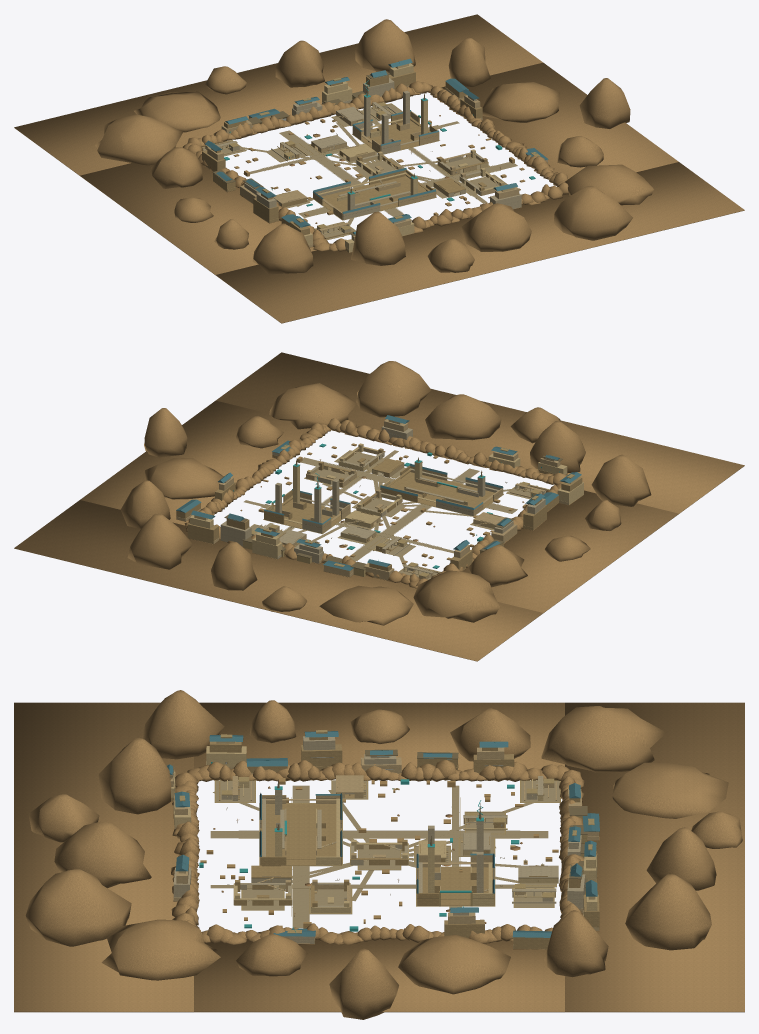
Rendered from sakyuu-lod1.glb.
3 views of the same model, one above another, from view 1: azimuth 30°, elevation 25°; view 2: azimuth 150°, elevation 25°; view 3: azimuth 270°, elevation 25° (orthographic). The views are drawn at different scales.
Visible parts, largest first — view 1: HB_sakyuu_LOD1_terrain, HB_sakyuu_LOD1_road, HB_sakyuu_LOD1_wall_weathered, HB_sakyuu_LOD1_wall_cool, HB_sakyuu_LOD1_wall_warm, HB_sakyuu_LOD1_wall, HB_sakyuu_LOD1_roof, HB_sakyuu_LOD1_LANDMARK_0_wall_weathered, HB_sakyuu_LOD1_wall_alt, HB_sakyuu_LOD1_LANDMARK_1_wall_cool, HB_sakyuu_LOD1_LANDMARK_1_wall_weathered, HB_sakyuu_LOD1_LANDMARK_0_wall_cool (+3 smaller); view 2: HB_sakyuu_LOD1_terrain, HB_sakyuu_LOD1_road, HB_sakyuu_LOD1_wall, HB_sakyuu_LOD1_wall_weathered, HB_sakyuu_LOD1_wall_warm, HB_sakyuu_LOD1_wall_cool, HB_sakyuu_LOD1_wall_alt, HB_sakyuu_LOD1_roof, HB_sakyuu_LOD1_LANDMARK_0_wall_weathered, HB_sakyuu_LOD1_LANDMARK_1_wall_cool, HB_sakyuu_LOD1_LANDMARK_1_wall_weathered, HB_sakyuu_LOD1_LANDMARK_0_wall_cool (+2 smaller); view 3: HB_sakyuu_LOD1_terrain, HB_sakyuu_LOD1_road, HB_sakyuu_LOD1_wall_weathered, HB_sakyuu_LOD1_wall_cool, HB_sakyuu_LOD1_LANDMARK_0_wall_weathered, HB_sakyuu_LOD1_wall, HB_sakyuu_LOD1_roof, HB_sakyuu_LOD1_wall_warm, HB_sakyuu_LOD1_wall_alt, HB_sakyuu_LOD1_LANDMARK_1_wall_weathered, HB_sakyuu_LOD1_obstacle, HB_sakyuu_LOD1_trim (+4 smaller).
Boxes of the visible parts, left/top/right/bottom form: HB_sakyuu_LOD1_terrain: left=14, top=14, right=744, bottom=323; HB_sakyuu_LOD1_road: left=202, top=104, right=517, bottom=239; HB_sakyuu_LOD1_wall_weathered: left=202, top=71, right=547, bottom=252; HB_sakyuu_LOD1_wall_cool: left=217, top=78, right=547, bottom=233; HB_sakyuu_LOD1_wall_warm: left=202, top=85, right=519, bottom=247; HB_sakyuu_LOD1_wall: left=221, top=63, right=514, bottom=252; HB_sakyuu_LOD1_roof: left=205, top=58, right=548, bottom=234; HB_sakyuu_LOD1_LANDMARK_0_wall_weathered: left=321, top=170, right=436, bottom=212; HB_sakyuu_LOD1_wall_alt: left=202, top=78, right=539, bottom=240; HB_sakyuu_LOD1_LANDMARK_1_wall_cool: left=355, top=90, right=418, bottom=154; HB_sakyuu_LOD1_LANDMARK_1_wall_weathered: left=362, top=111, right=439, bottom=149; HB_sakyuu_LOD1_LANDMARK_0_wall_cool: left=315, top=180, right=410, bottom=219; HB_sakyuu_LOD1_terrain: left=14, top=352, right=744, bottom=661; HB_sakyuu_LOD1_road: left=244, top=450, right=547, bottom=579; HB_sakyuu_LOD1_wall: left=189, top=420, right=583, bottom=574; HB_sakyuu_LOD1_wall_weathered: left=176, top=448, right=582, bottom=573; HB_sakyuu_LOD1_wall_warm: left=176, top=419, right=568, bottom=580; HB_sakyuu_LOD1_wall_cool: left=220, top=426, right=545, bottom=574; HB_sakyuu_LOD1_wall_alt: left=243, top=444, right=574, bottom=576; HB_sakyuu_LOD1_roof: left=176, top=415, right=581, bottom=570; HB_sakyuu_LOD1_LANDMARK_0_wall_weathered: left=380, top=465, right=494, bottom=508; HB_sakyuu_LOD1_LANDMARK_1_wall_cool: left=275, top=479, right=348, bottom=533; HB_sakyuu_LOD1_LANDMARK_1_wall_weathered: left=264, top=490, right=340, bottom=528; HB_sakyuu_LOD1_LANDMARK_0_wall_cool: left=405, top=468, right=501, bottom=515; HB_sakyuu_LOD1_terrain: left=14, top=690, right=744, bottom=1019; HB_sakyuu_LOD1_road: left=210, top=780, right=559, bottom=928; HB_sakyuu_LOD1_wall_weathered: left=171, top=737, right=599, bottom=949; HB_sakyuu_LOD1_wall_cool: left=173, top=736, right=585, bottom=943; HB_sakyuu_LOD1_LANDMARK_0_wall_weathered: left=260, top=803, right=341, bottom=865; HB_sakyuu_LOD1_wall: left=171, top=741, right=597, bottom=913; HB_sakyuu_LOD1_roof: left=167, top=731, right=599, bottom=937; HB_sakyuu_LOD1_wall_warm: left=170, top=747, right=599, bottom=948; HB_sakyuu_LOD1_wall_alt: left=179, top=730, right=594, bottom=933; HB_sakyuu_LOD1_LANDMARK_1_wall_weathered: left=417, top=867, right=494, bottom=905; HB_sakyuu_LOD1_obstacle: left=200, top=778, right=558, bottom=928; HB_sakyuu_LOD1_trim: left=166, top=749, right=587, bottom=907.
Bounding box in the file's own units: 704 × 79.65 × 690.
13 materials, 12 textured.
